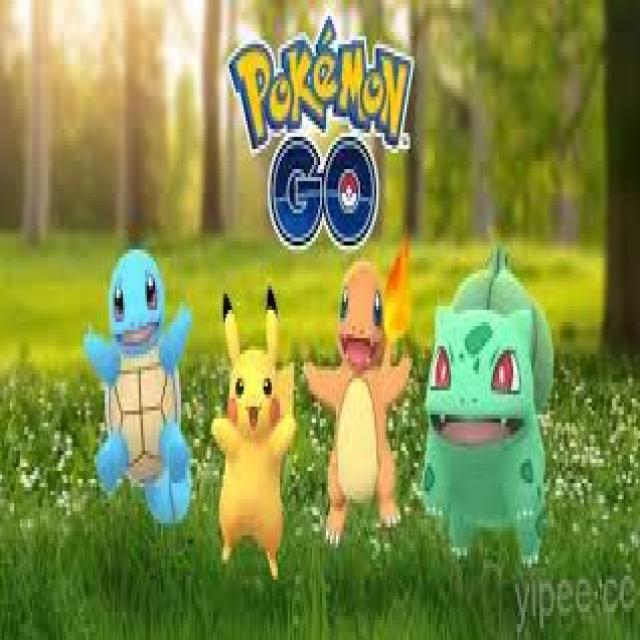Bulbasaur: (432, 267, 543, 539)
Charmander: (326, 256, 399, 529)
Pikachu: (218, 326, 289, 565)
Squirtle: (96, 248, 189, 510)
